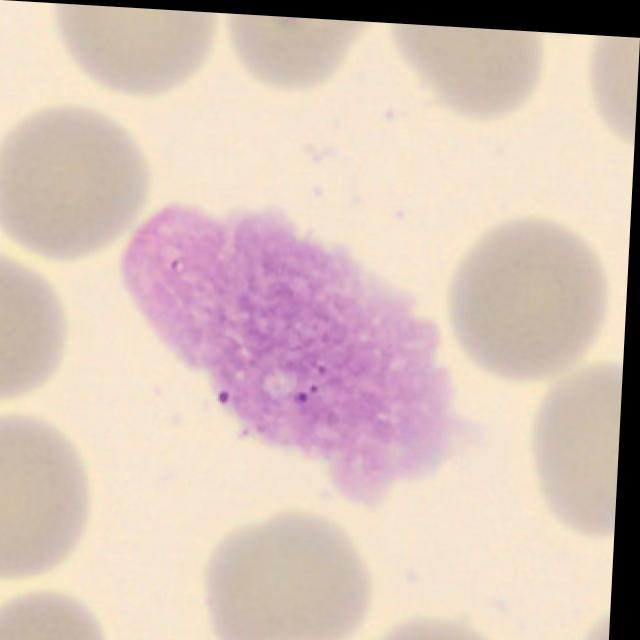Artefato: (123, 201, 458, 502)
